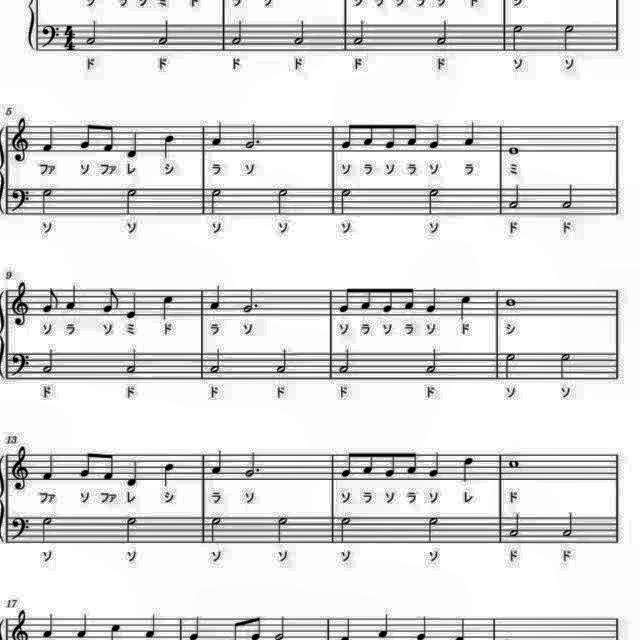Bass-clef: (38, 20, 62, 52), (9, 186, 33, 218), (8, 349, 32, 377), (10, 514, 32, 544)
Eighth-note: (98, 284, 122, 314), (339, 448, 357, 484), (39, 286, 60, 316), (76, 448, 94, 480), (77, 120, 95, 152), (100, 450, 118, 482), (337, 283, 355, 315), (359, 446, 376, 478), (359, 118, 376, 150), (383, 119, 399, 153), (379, 284, 396, 316), (101, 121, 117, 155), (339, 120, 356, 152), (382, 448, 398, 480), (405, 119, 421, 149), (405, 447, 421, 477), (358, 284, 374, 314), (404, 283, 420, 313)
Full-note: (502, 294, 518, 310), (507, 454, 523, 470), (506, 143, 522, 157)
Half-dot: (241, 286, 263, 316), (242, 120, 264, 150), (241, 446, 261, 478)
Half-note: (556, 349, 576, 381), (124, 345, 144, 375), (558, 510, 578, 540), (207, 186, 225, 218), (37, 514, 55, 546), (38, 184, 56, 216), (207, 513, 225, 545), (424, 514, 442, 546), (425, 186, 443, 218), (337, 186, 355, 218), (559, 21, 577, 53), (123, 187, 141, 219), (154, 14, 172, 46), (501, 350, 519, 382), (337, 513, 355, 545), (275, 516, 293, 548), (423, 345, 441, 375), (337, 345, 355, 375), (351, 17, 369, 47), (39, 345, 57, 375), (290, 17, 308, 47), (505, 510, 523, 540), (559, 183, 577, 213), (505, 183, 523, 213), (86, 16, 102, 48), (436, 16, 452, 48), (508, 20, 524, 52), (124, 512, 140, 544), (276, 188, 292, 220), (230, 17, 247, 47), (207, 346, 225, 374), (274, 346, 292, 374)
Quarter-note: (125, 290, 143, 322), (39, 124, 57, 156), (39, 450, 57, 482), (125, 457, 143, 488), (424, 284, 441, 316), (63, 282, 81, 312), (161, 460, 179, 490), (161, 130, 179, 160), (159, 292, 177, 322), (459, 452, 476, 483), (426, 448, 442, 480), (426, 120, 442, 152), (126, 128, 142, 160), (210, 119, 227, 149), (210, 447, 227, 477), (462, 119, 478, 149), (208, 284, 225, 312), (458, 294, 474, 322)
Treble-clef: (8, 443, 32, 492), (8, 278, 32, 326), (12, 115, 34, 165)
